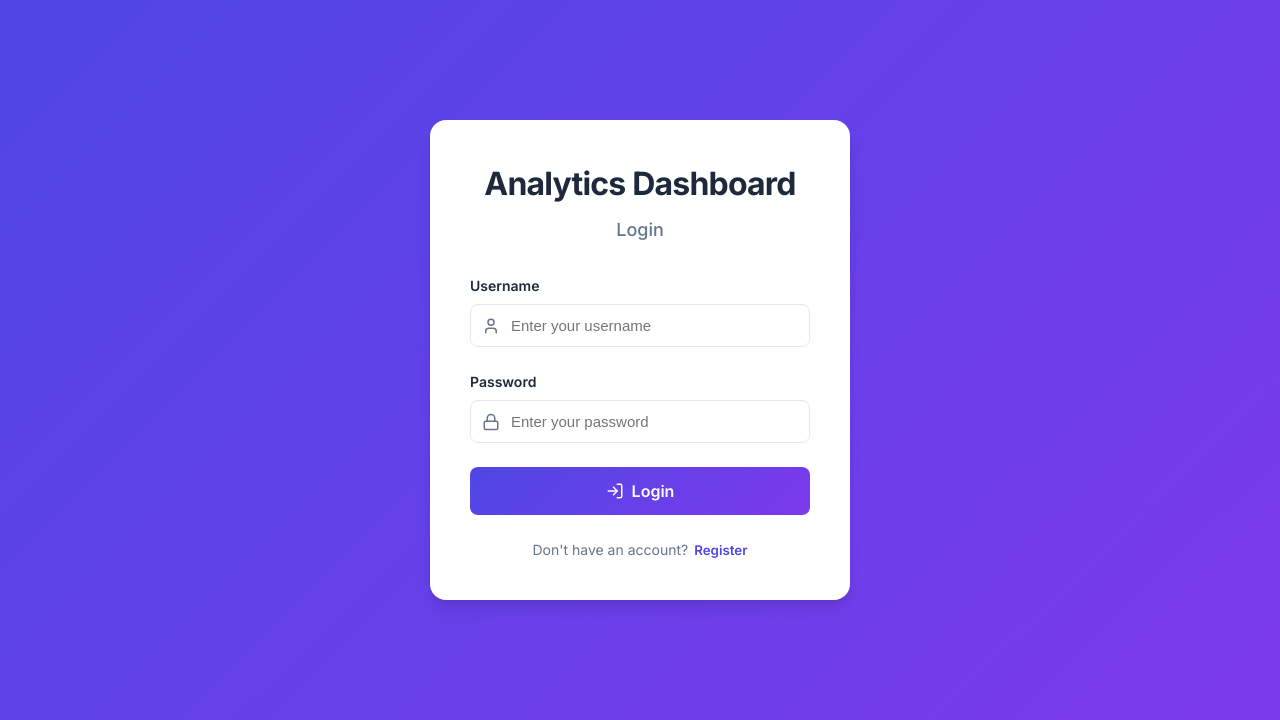
Test: handles login failure gracefully
The width and height of the screenshot is (1280, 720).
Type "wronguser" into the field with placeholder "Enter your username" at (640, 326), box [470,304,810,347]
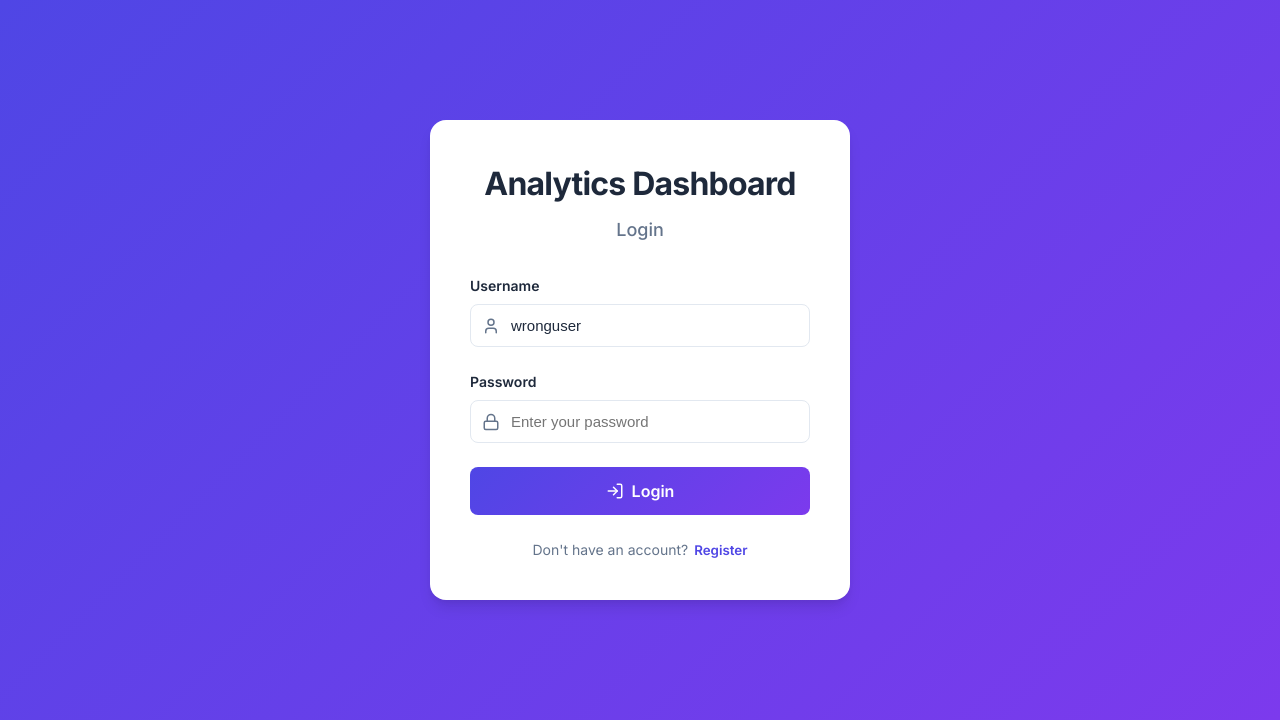
Type "wrongpass" into the password field with placeholder "Enter your password" at (640, 422), box [470,400,810,443]
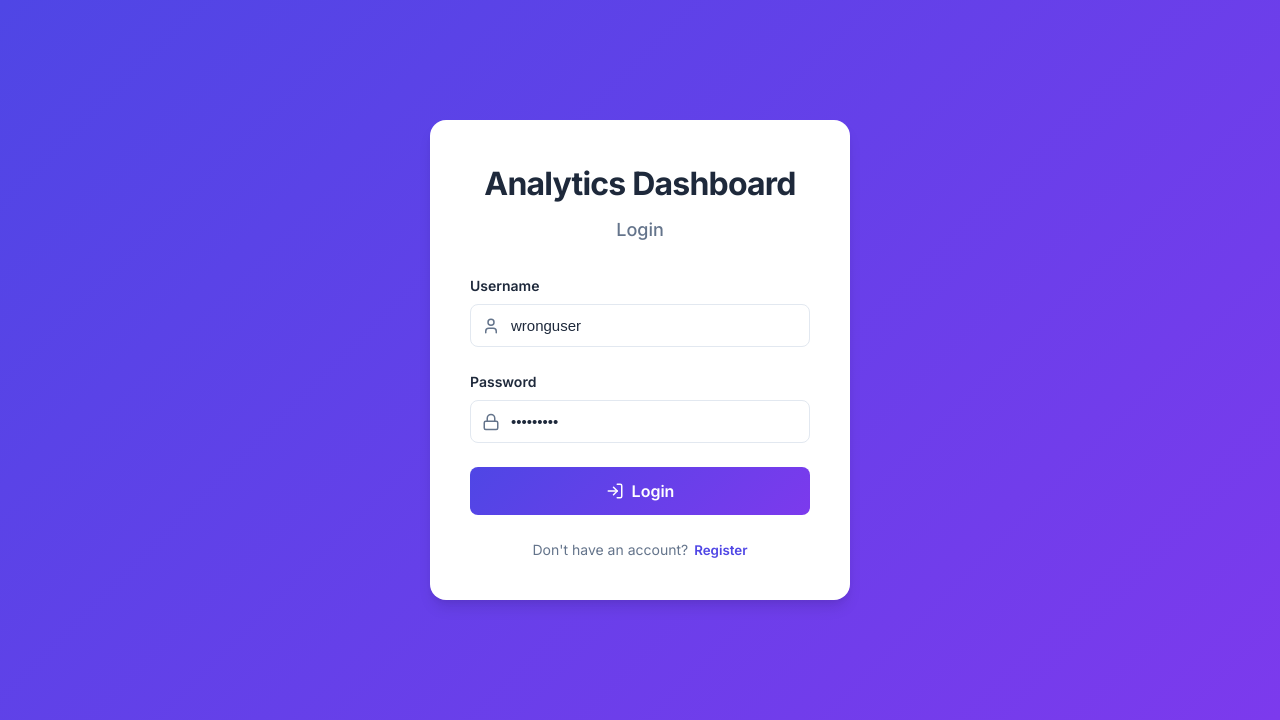
Click the button "Login" at (640, 491), box [470,467,810,515]
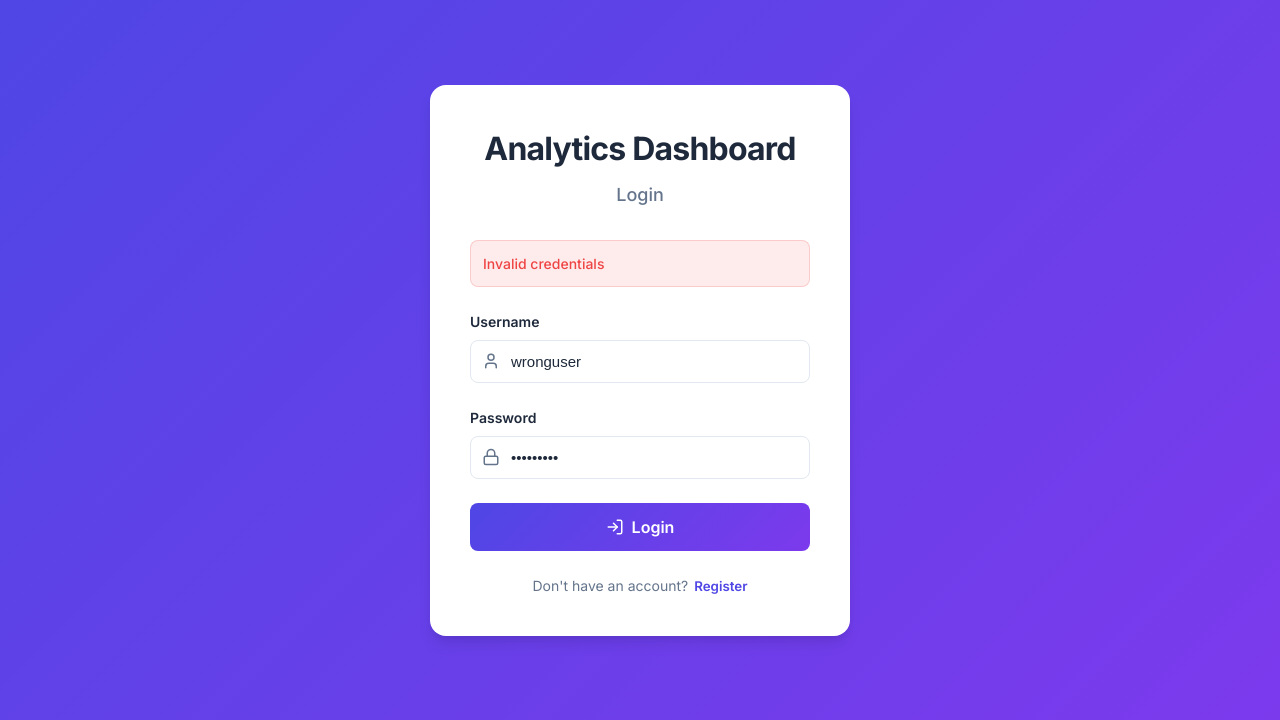
expect the text "Invalid credentials" is shown: met, box [470,240,810,286]
